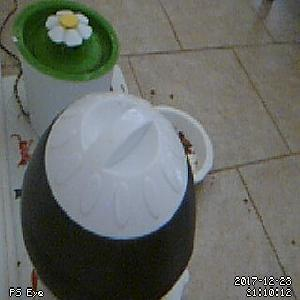fountain: (10, 1, 119, 81)
